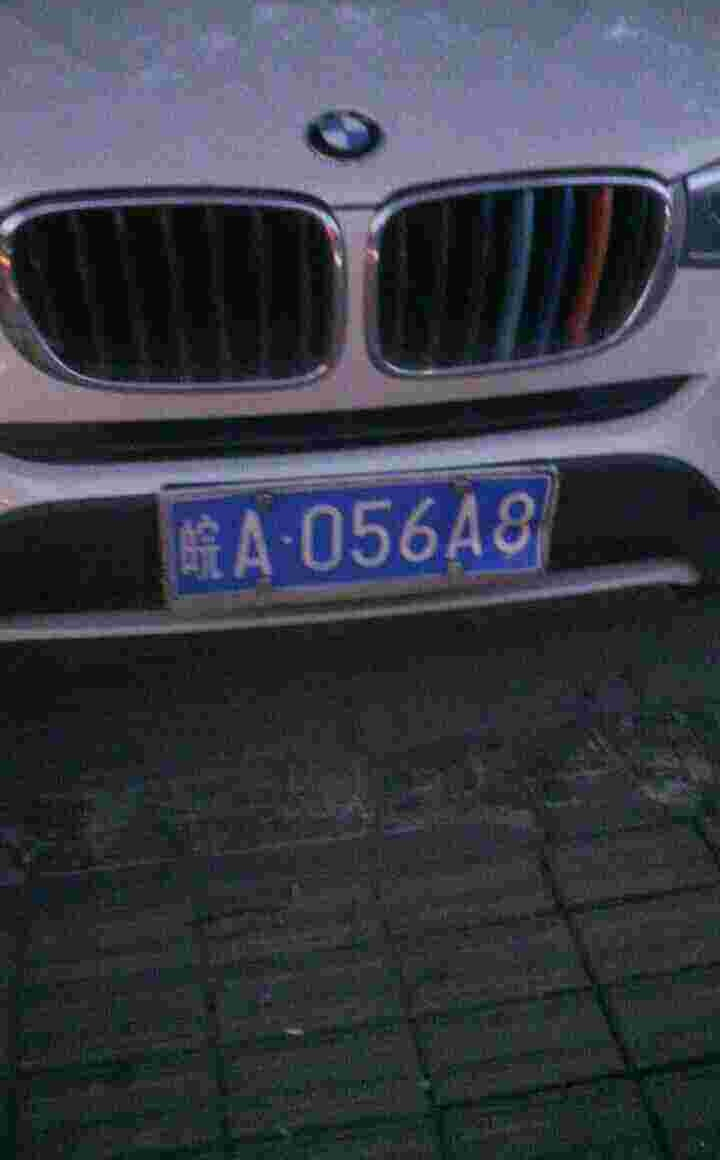license_plate: (142, 469, 568, 602)
